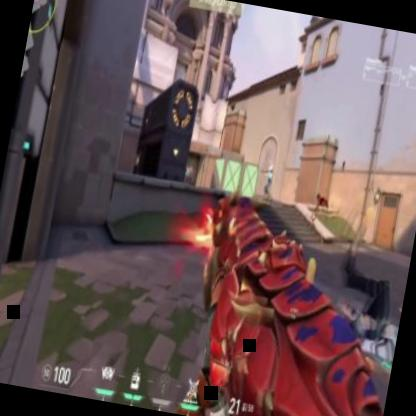enemy: (186, 165, 194, 184)
enemy_head: (190, 165, 192, 170)
